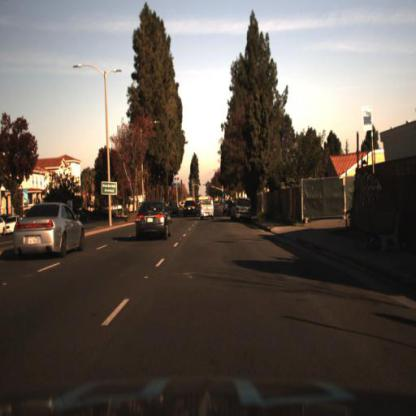car: (12, 201, 86, 261), (132, 199, 172, 244), (230, 194, 252, 224), (181, 197, 198, 221), (198, 198, 214, 222), (168, 199, 182, 220)
